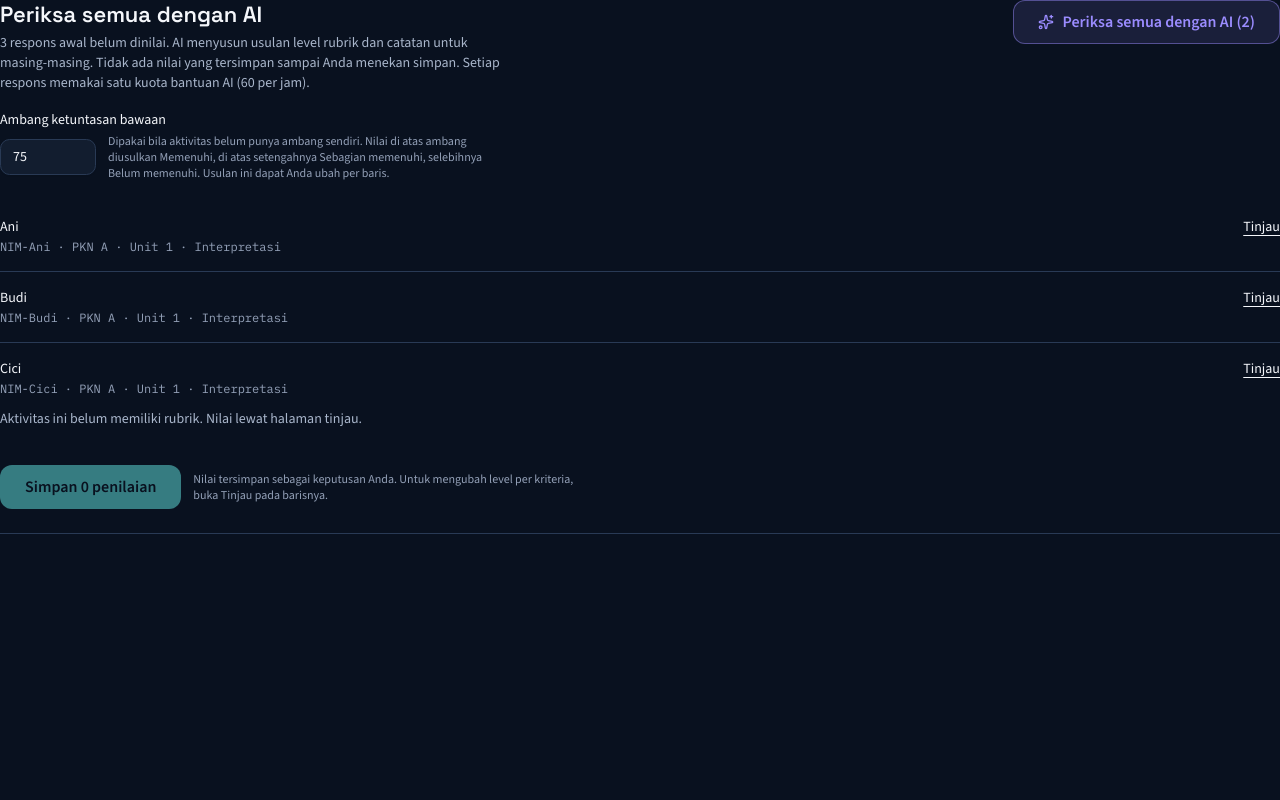
BulkAiReview › meminta usulan AI untuk semua respons berubrik sekaligus
What coordinates should you click on to do the following:
click the button "Periksa semua dengan AI (2)"
I would click on:
 (1147, 22)
Its box is [1014, 0, 1279, 44].
(page scrolled)
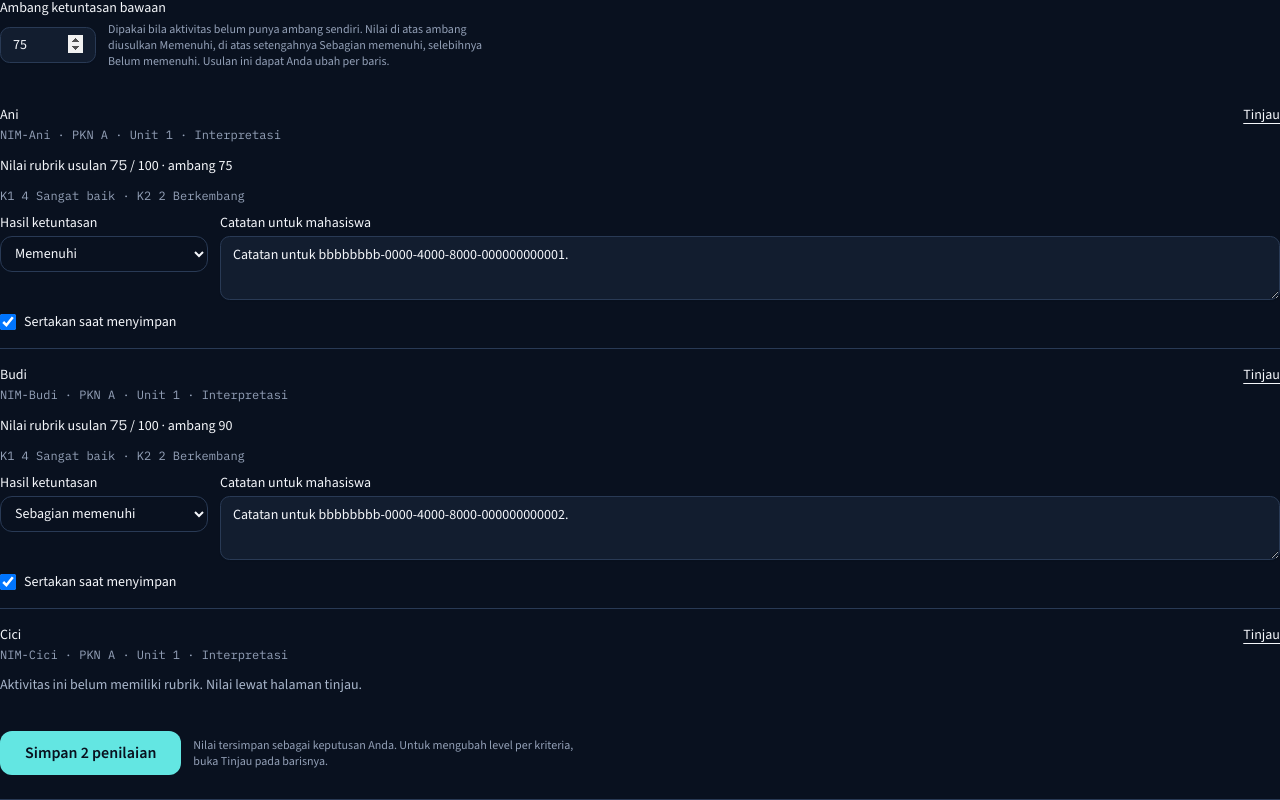
Result: the text "Nilai rubrik usulan 75 / 100 · ambang 75" is shown at [0, 156, 232, 175]
Result: the dropdown labelled "Hasil ketuntasan" below "NIM-Ani" shows "Memenuhi" at [0, 236, 208, 272]
Result: the dropdown labelled "Hasil ketuntasan" below "90" shows "Sebagian memenuhi" at [0, 496, 208, 532]
